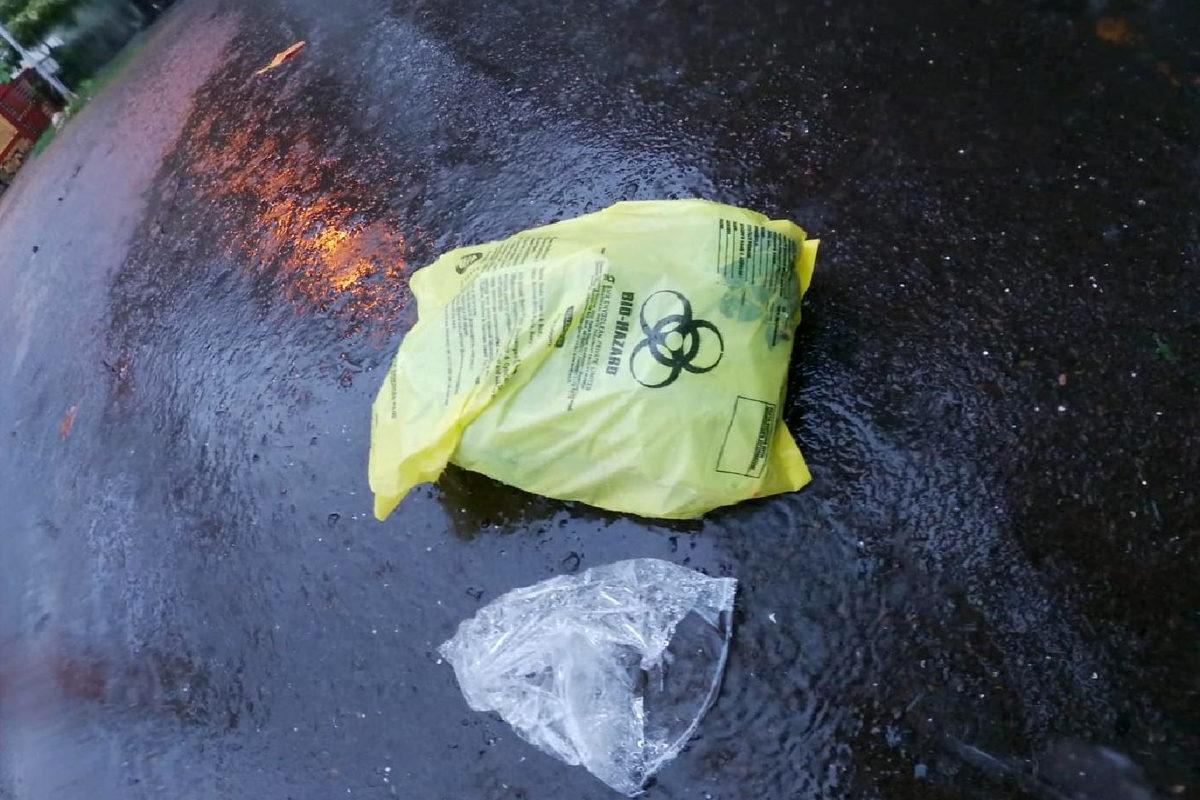road: (0, 2, 1200, 798)
trash: (368, 199, 817, 518), (441, 560, 736, 796)
